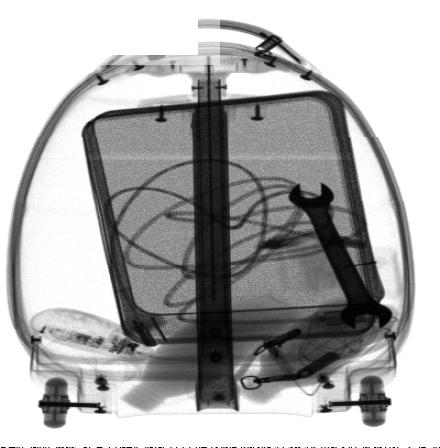Wrench: (289, 182, 392, 330)
